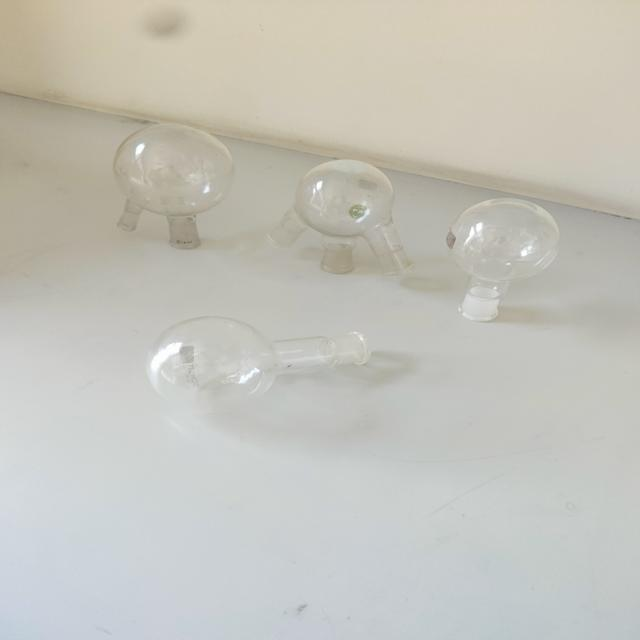Round_Bottom_Flask_Borosilicate_Glass_1_Neck: (130, 293, 380, 430), (434, 183, 578, 336)
Round_Bottom_Flask_Borosilicate_Glass_2_Neck: (79, 116, 253, 267)
Round_Bottom_Flask_Borosilicate_Glass_3_Neck: (265, 132, 423, 290)
